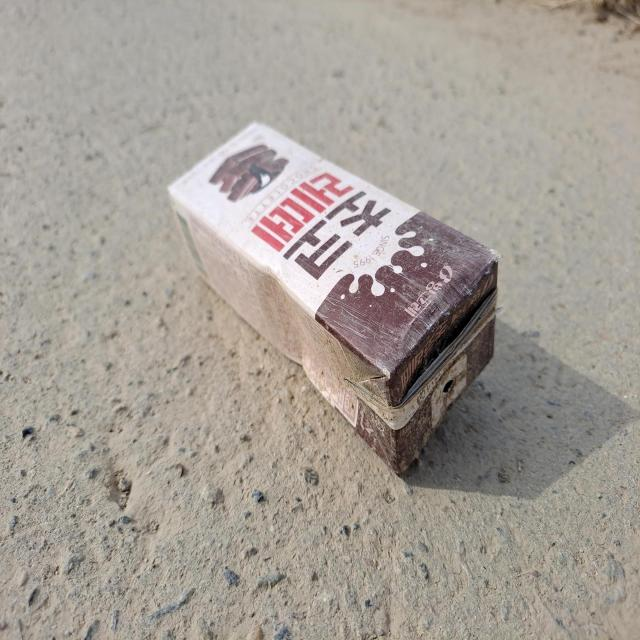paperpack: (168, 122, 499, 474)
